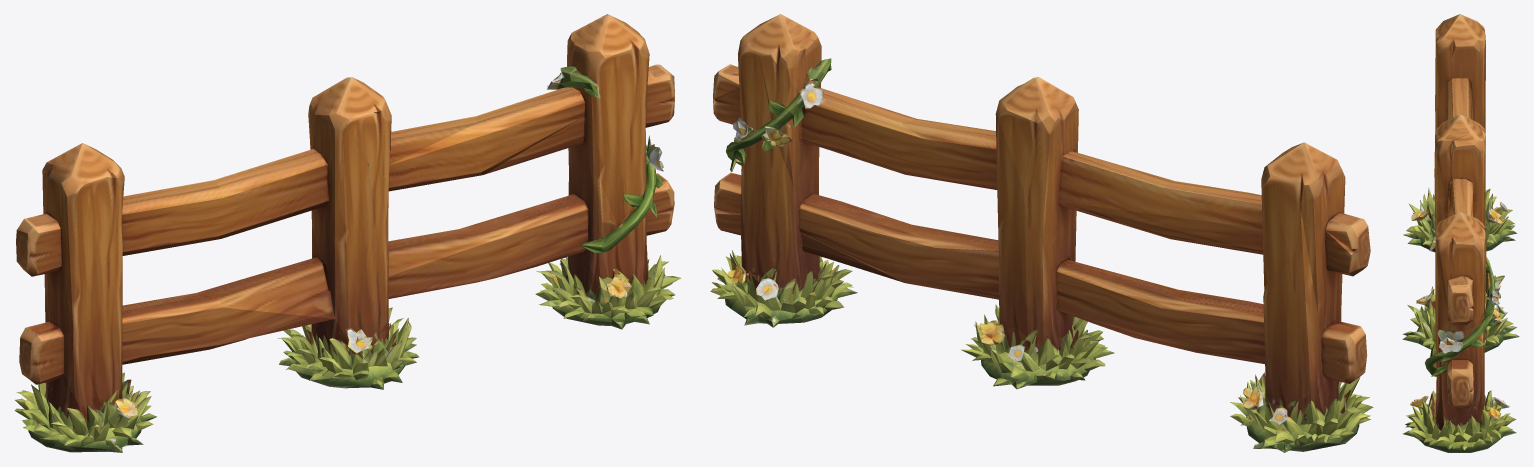
The model's file is ch1_wood_fence.fbx.
The picture shows the model from 3 angles, left to right: view 1: azimuth 30°, elevation 25°; view 2: azimuth 150°, elevation 25°; view 3: azimuth 270°, elevation 25°; orthographic projection. The views are drawn at different scales.
Visible parts, largest first — view 1: ch1_wood_fence; view 2: ch1_wood_fence; view 3: ch1_wood_fence.
Part boxes in pixels (<box>): ch1_wood_fence: <box>14,14,680,452</box>; ch1_wood_fence: <box>710,14,1373,452</box>; ch1_wood_fence: <box>1402,14,1519,452</box>.
Size of the model in its own units: 3.06 by 1.3 by 0.6222.
1 material, 1 textured.
